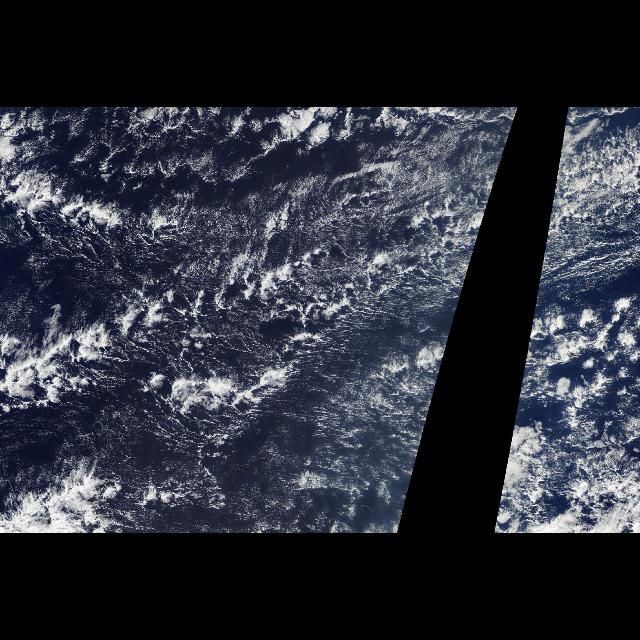Fish: (4, 168, 366, 438)
Gravel: (17, 172, 457, 456)
